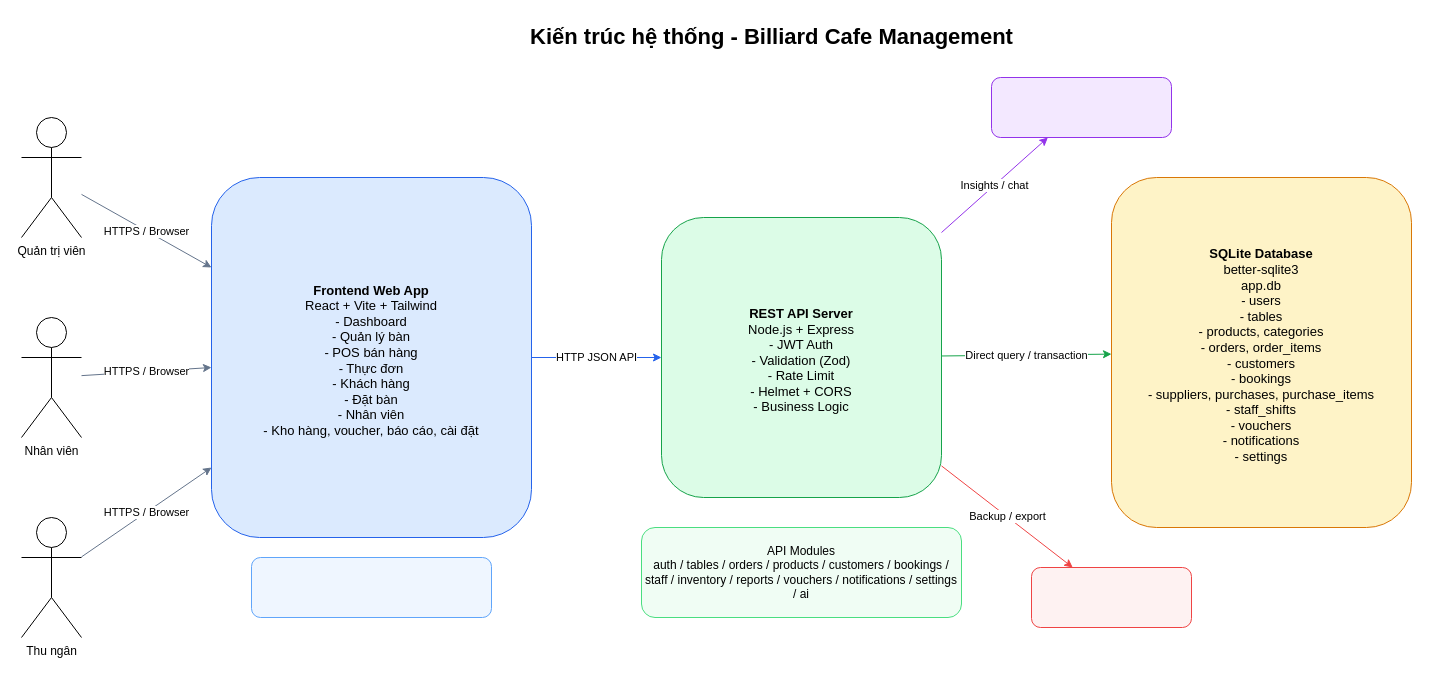
Some shapes in this 1429 by 675 pixel diagram are drawn without their labels. The shapes that lost their labels are listed below. From the top down, each one's centre as x and y in pixels, then its label:
the point at 1081,107: AI Insights / Chat (API tích hợp trong server)
the point at 371,587: Theme / Auth Context / API Client
the point at 1111,597: JSON Backup Files
